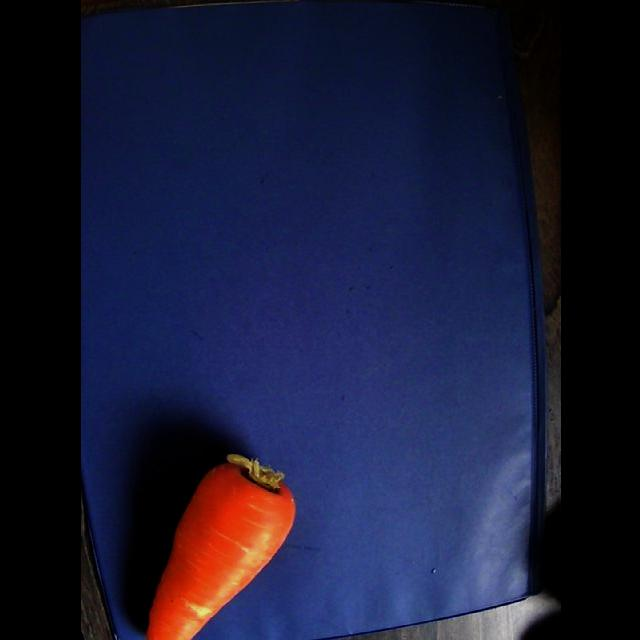zanahoria: (147, 453, 295, 639)
